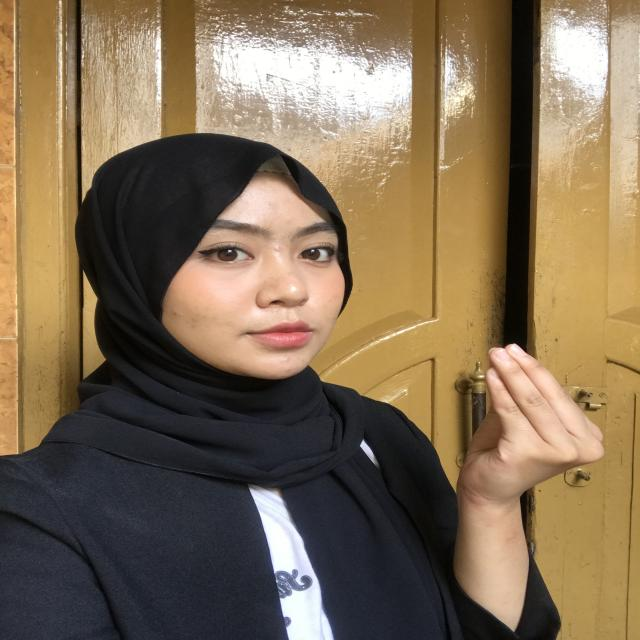kapan: (372, 336, 603, 612), (282, 313, 290, 315)
